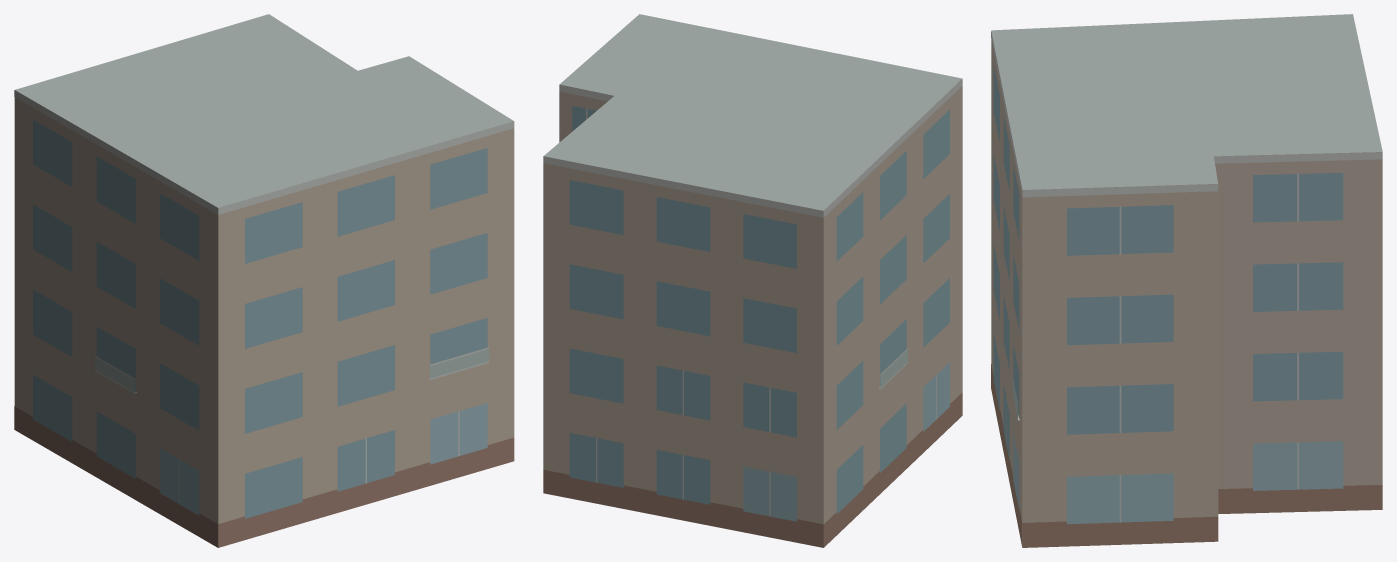
Rendered from survey-upis-32953652.glb.
3 views of the same model, side by side, from view 1: azimuth 30°, elevation 25°; view 2: azimuth 150°, elevation 25°; view 3: azimuth 270°, elevation 25° (orthographic). The views are drawn at different scales.
Parts seen in each view (by area): view 1: survey-upis-32953652.tmp; view 2: survey-upis-32953652.tmp; view 3: survey-upis-32953652.tmp.
Boxes of the visible parts, box(x1,y1,x2,y2) form: survey-upis-32953652.tmp: box(14, 14, 514, 547); survey-upis-32953652.tmp: box(543, 14, 962, 547); survey-upis-32953652.tmp: box(991, 14, 1382, 547).
Bounding box in the file's own units: 12.48 × 11.82 × 11.73.
